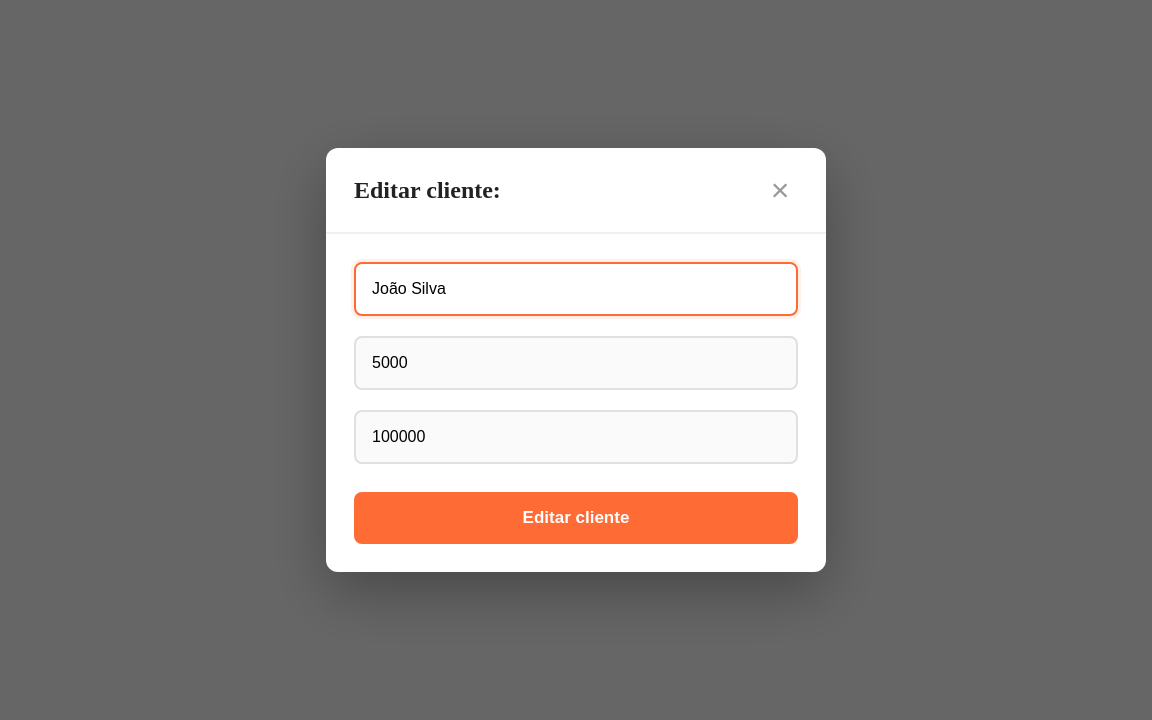
Test: ClientEditModal › deve validar nome obrigatório
Clear the field with placeholder "Nome" at (576, 289), box [354,262,798,316]
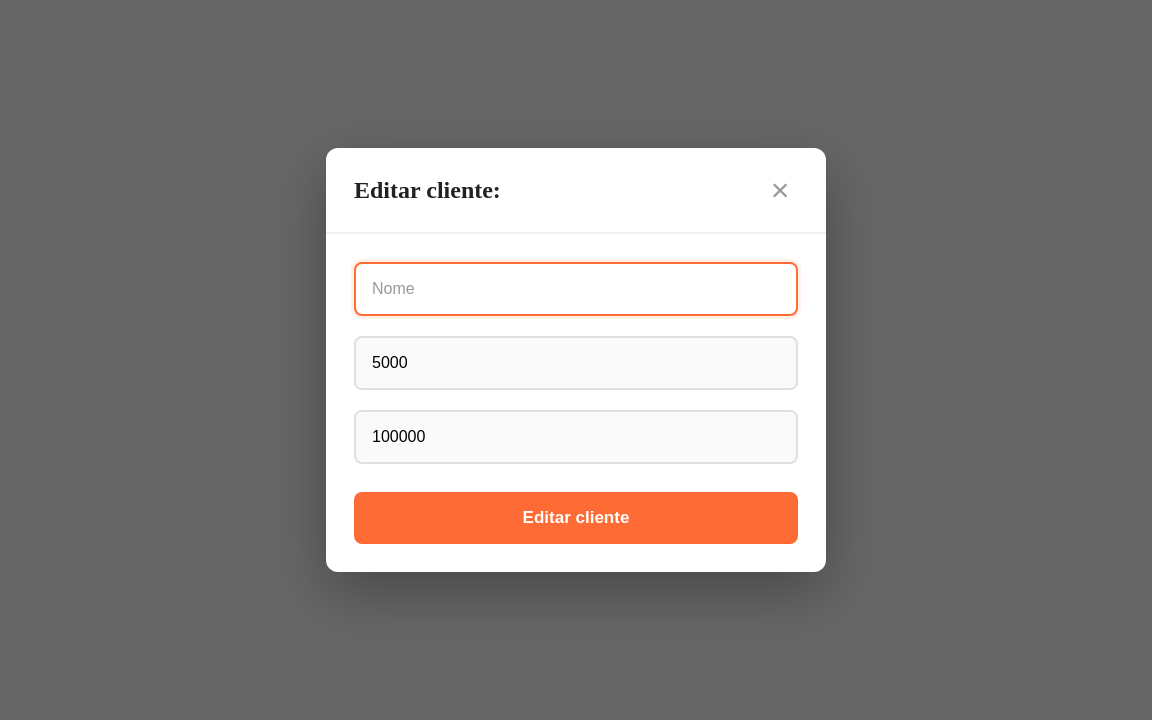
Click the button "Editar cliente" at (576, 518), box [354,492,798,544]
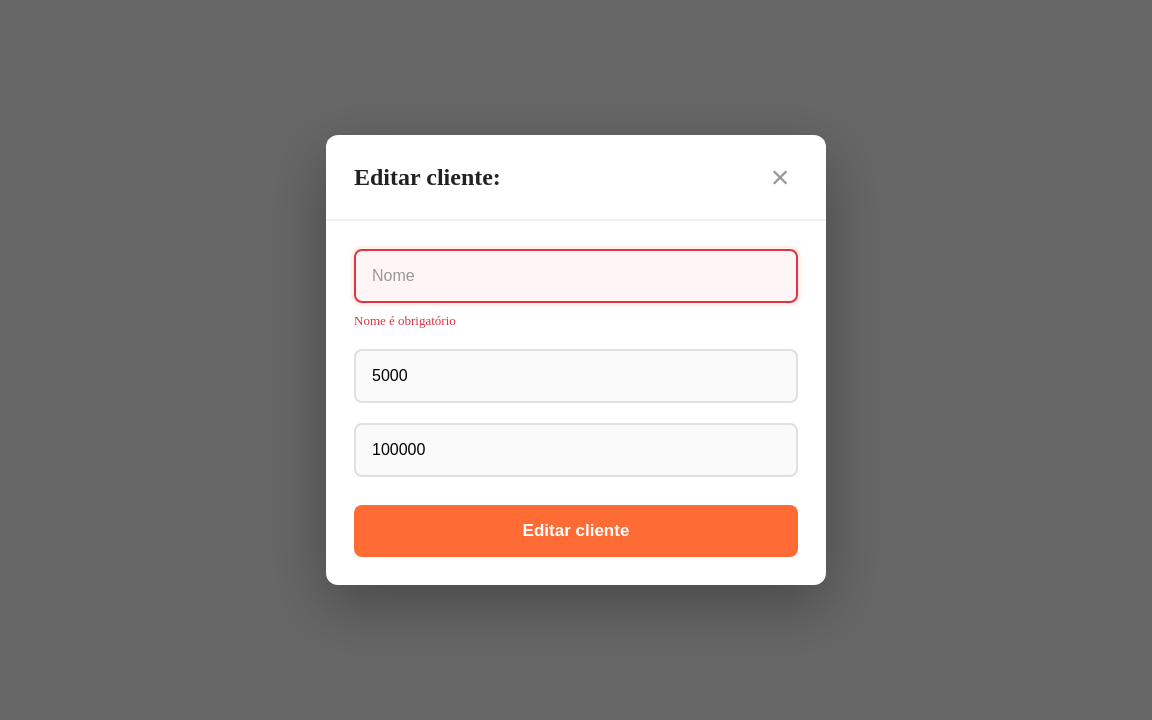
Now the text "Nome é obrigatório" is shown, box [354,313,456,328]
